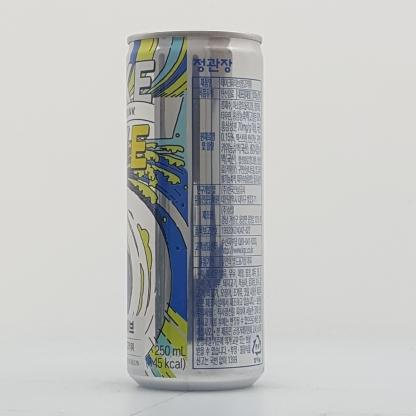---------: (127, 30, 264, 391)
